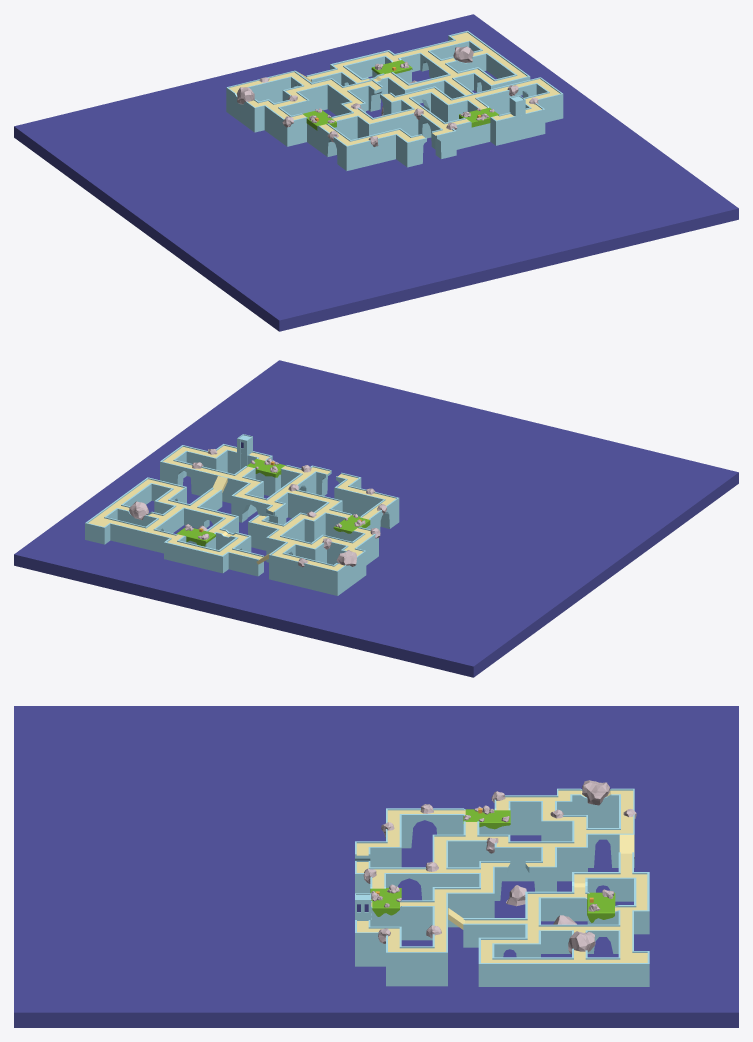
The model's file is map.fbx.
3 renders of one model, top to bottom at view 1: azimuth 30°, elevation 25°; view 2: azimuth 150°, elevation 25°; view 3: azimuth 270°, elevation 25°, orthographic. The views are drawn at different scales.
Parts seen in each view (by area): view 1: Куб, Cube.003, Cube.001, Cube.004, Cube.002; view 2: Куб, Cube.003, Cube.001, Cube.004, Cube.002; view 3: Куб, Cube.003, Cube.001, Cube.004, Cube.002, Cube.007, Cube.008, Cube.009, Куб.012.
Boxes of the visible parts, bbox=[...] form: Куб: bbox=[14, 14, 738, 331]; Cube.003: bbox=[226, 70, 563, 170]; Cube.001: bbox=[306, 30, 530, 103]; Cube.004: bbox=[229, 72, 559, 145]; Cube.002: bbox=[307, 32, 526, 95]; Куб: bbox=[14, 360, 738, 677]; Cube.003: bbox=[160, 434, 399, 595]; Cube.001: bbox=[85, 477, 263, 576]; Cube.004: bbox=[163, 445, 395, 570]; Cube.002: bbox=[88, 479, 262, 559]; Куб: bbox=[14, 706, 738, 1027]; Cube.003: bbox=[355, 788, 634, 986]; Cube.001: bbox=[463, 852, 649, 986]; Cube.004: bbox=[356, 790, 633, 951]; Cube.002: bbox=[465, 853, 647, 962]; Cube.007: bbox=[587, 892, 615, 922]; Cube.008: bbox=[370, 888, 401, 916]; Cube.009: bbox=[463, 809, 510, 829]; Куб.012: bbox=[582, 780, 609, 805].
Size of the model in its own units: 2853 by 338 by 2853.
